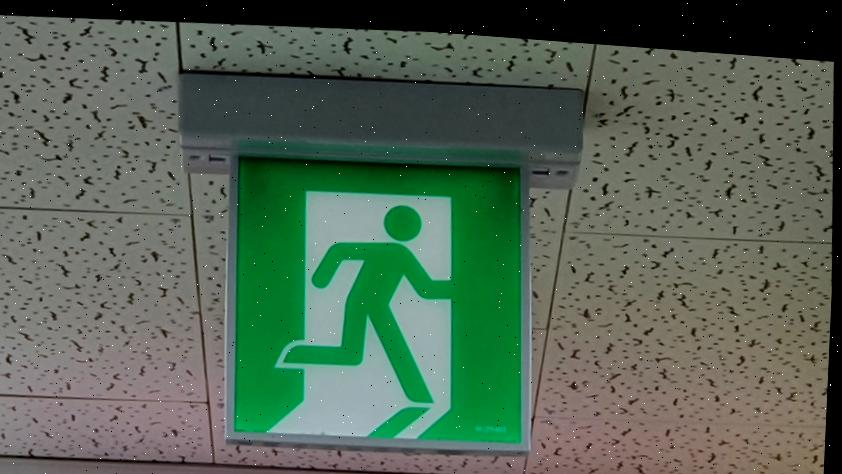emergency_exit: (224, 148, 532, 453)
